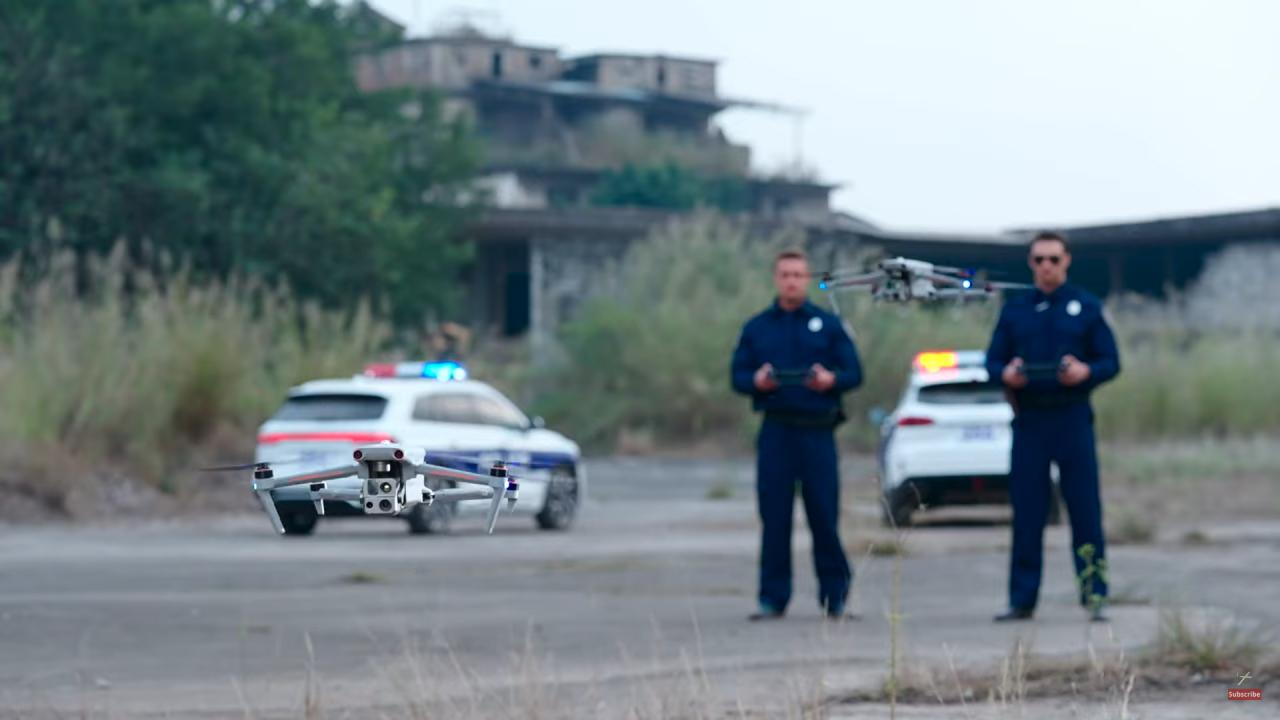Drone: (186, 432, 592, 545), (806, 243, 1040, 318)
